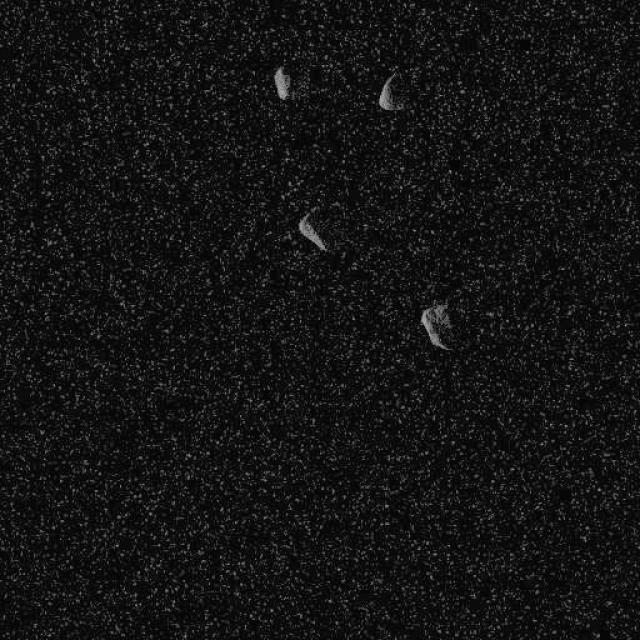D2: (419, 301, 455, 351), (296, 206, 329, 254), (378, 71, 402, 111), (272, 65, 292, 100)
